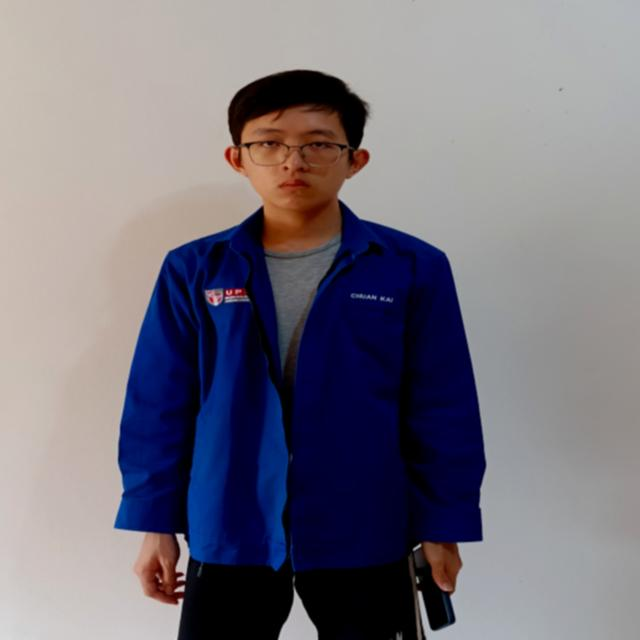person_with_labcoat: (115, 71, 485, 640)
